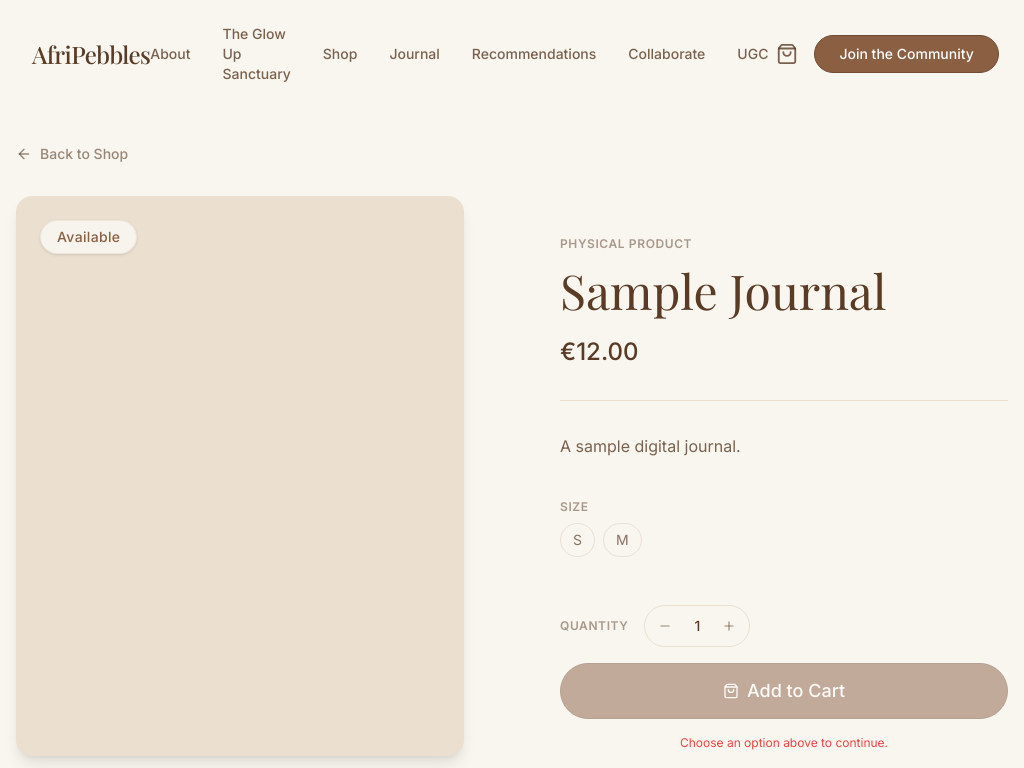
it: ShopProduct — real cart, no fake purchase states › requires a variant selection before a variant product can be added to the cart
The image size is (1024, 768).
Expected: the button "Add to Cart" is disabled, [560, 663, 1008, 719]
Click the button "M" at (622, 540), box [603, 523, 642, 557]
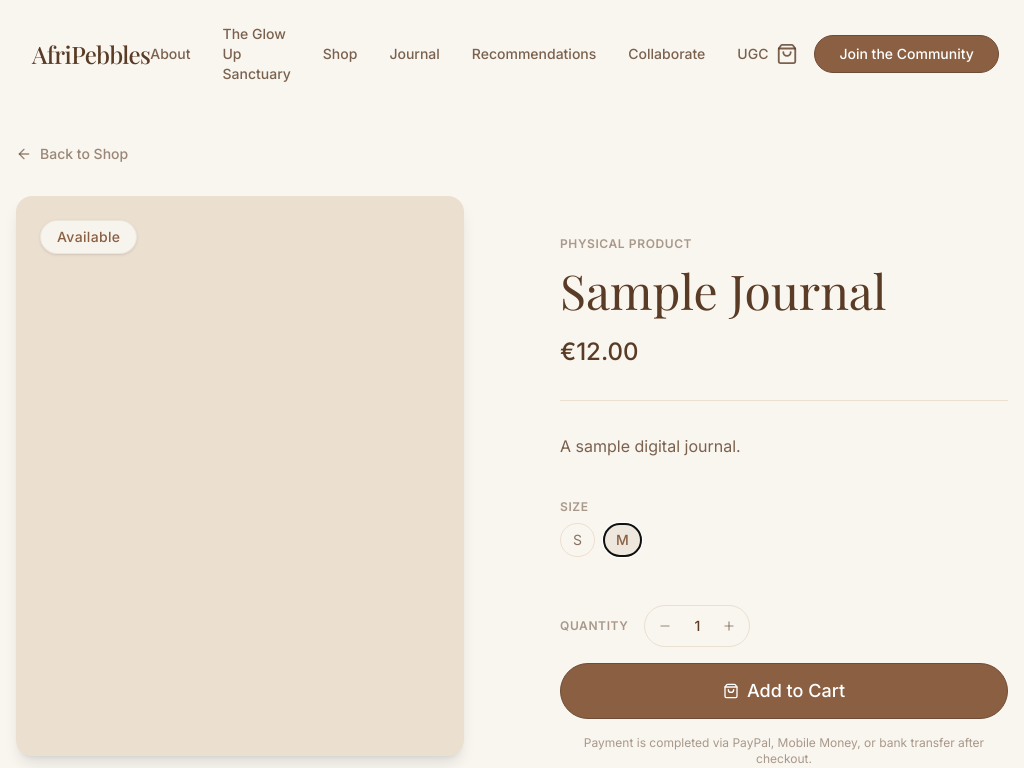
Expected: the button "Add to Cart" is enabled, [560, 663, 1008, 719]
